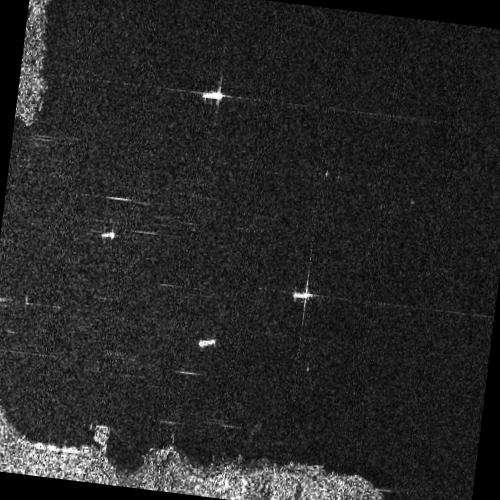ship: (200, 90, 224, 101), (292, 290, 312, 300), (197, 338, 217, 347), (100, 231, 115, 239)
